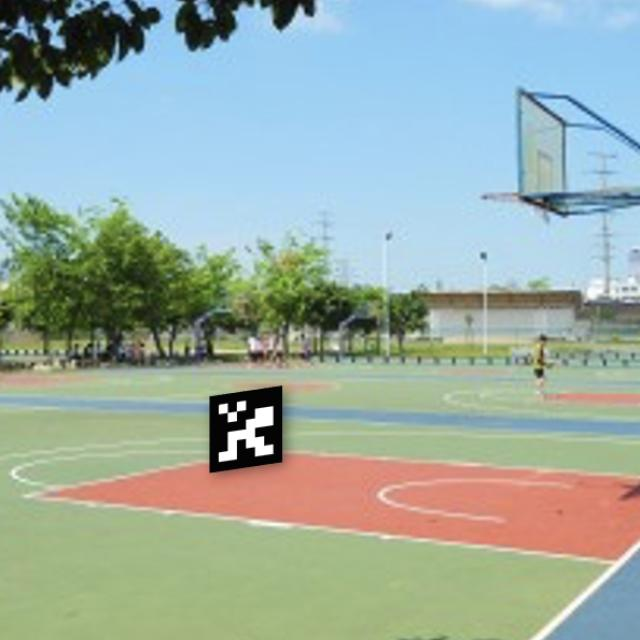marker: (198, 377, 295, 478)
